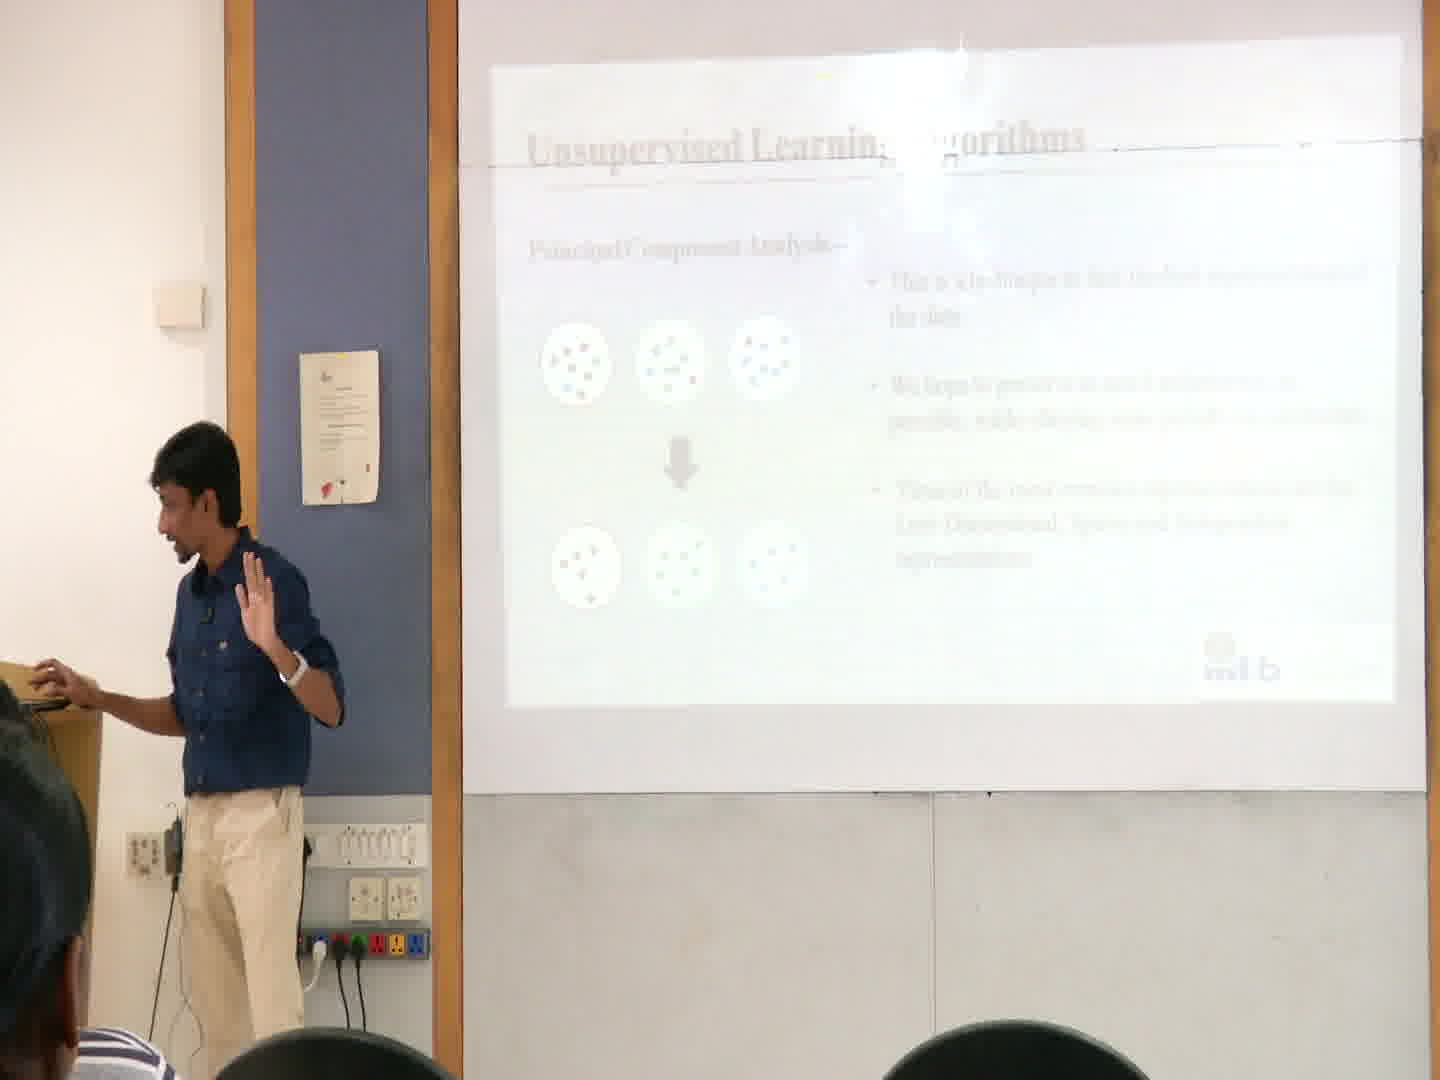slide: (491, 35, 1401, 703)
